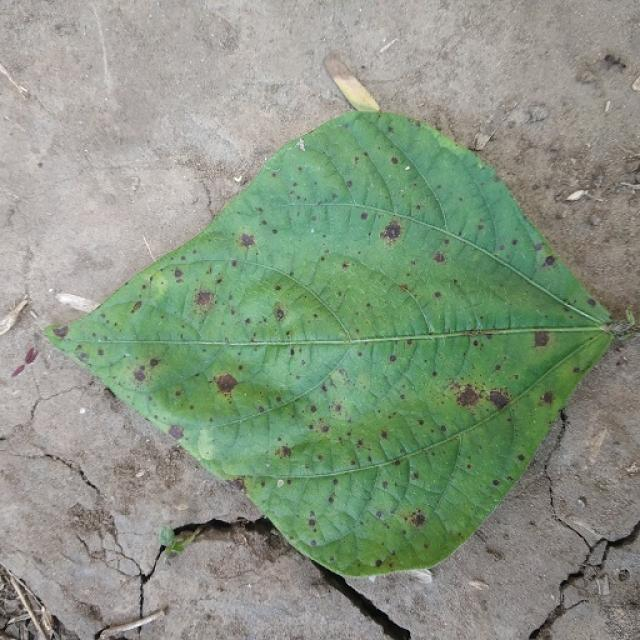Anthracnose: (374, 214, 406, 248), (456, 385, 480, 407), (214, 373, 238, 394), (488, 390, 510, 410), (195, 290, 213, 307), (533, 331, 550, 348), (133, 365, 148, 382), (239, 233, 255, 248), (168, 424, 184, 439), (275, 445, 292, 459), (52, 325, 68, 339), (540, 390, 554, 405), (412, 512, 425, 527), (543, 255, 556, 267), (130, 301, 142, 313), (274, 307, 285, 320), (433, 252, 445, 263), (173, 267, 184, 279), (586, 298, 597, 307), (149, 358, 159, 367), (534, 242, 544, 251), (79, 352, 88, 361), (360, 212, 369, 220), (380, 430, 388, 439), (308, 518, 316, 527), (345, 180, 353, 189), (375, 510, 383, 519), (390, 156, 398, 164), (321, 425, 329, 433), (572, 366, 580, 374), (411, 471, 419, 479), (400, 284, 409, 291), (389, 355, 397, 362), (342, 262, 350, 269), (434, 291, 442, 298), (517, 454, 525, 461), (231, 259, 238, 267), (492, 479, 500, 486), (381, 481, 388, 489), (472, 339, 479, 347), (244, 317, 251, 325), (375, 559, 382, 567), (310, 406, 317, 413), (417, 419, 424, 426), (387, 126, 394, 133), (440, 425, 447, 432), (289, 348, 295, 356), (275, 284, 281, 291), (511, 239, 518, 245), (272, 228, 278, 234)
Blackgram: (48, 110, 611, 575)
